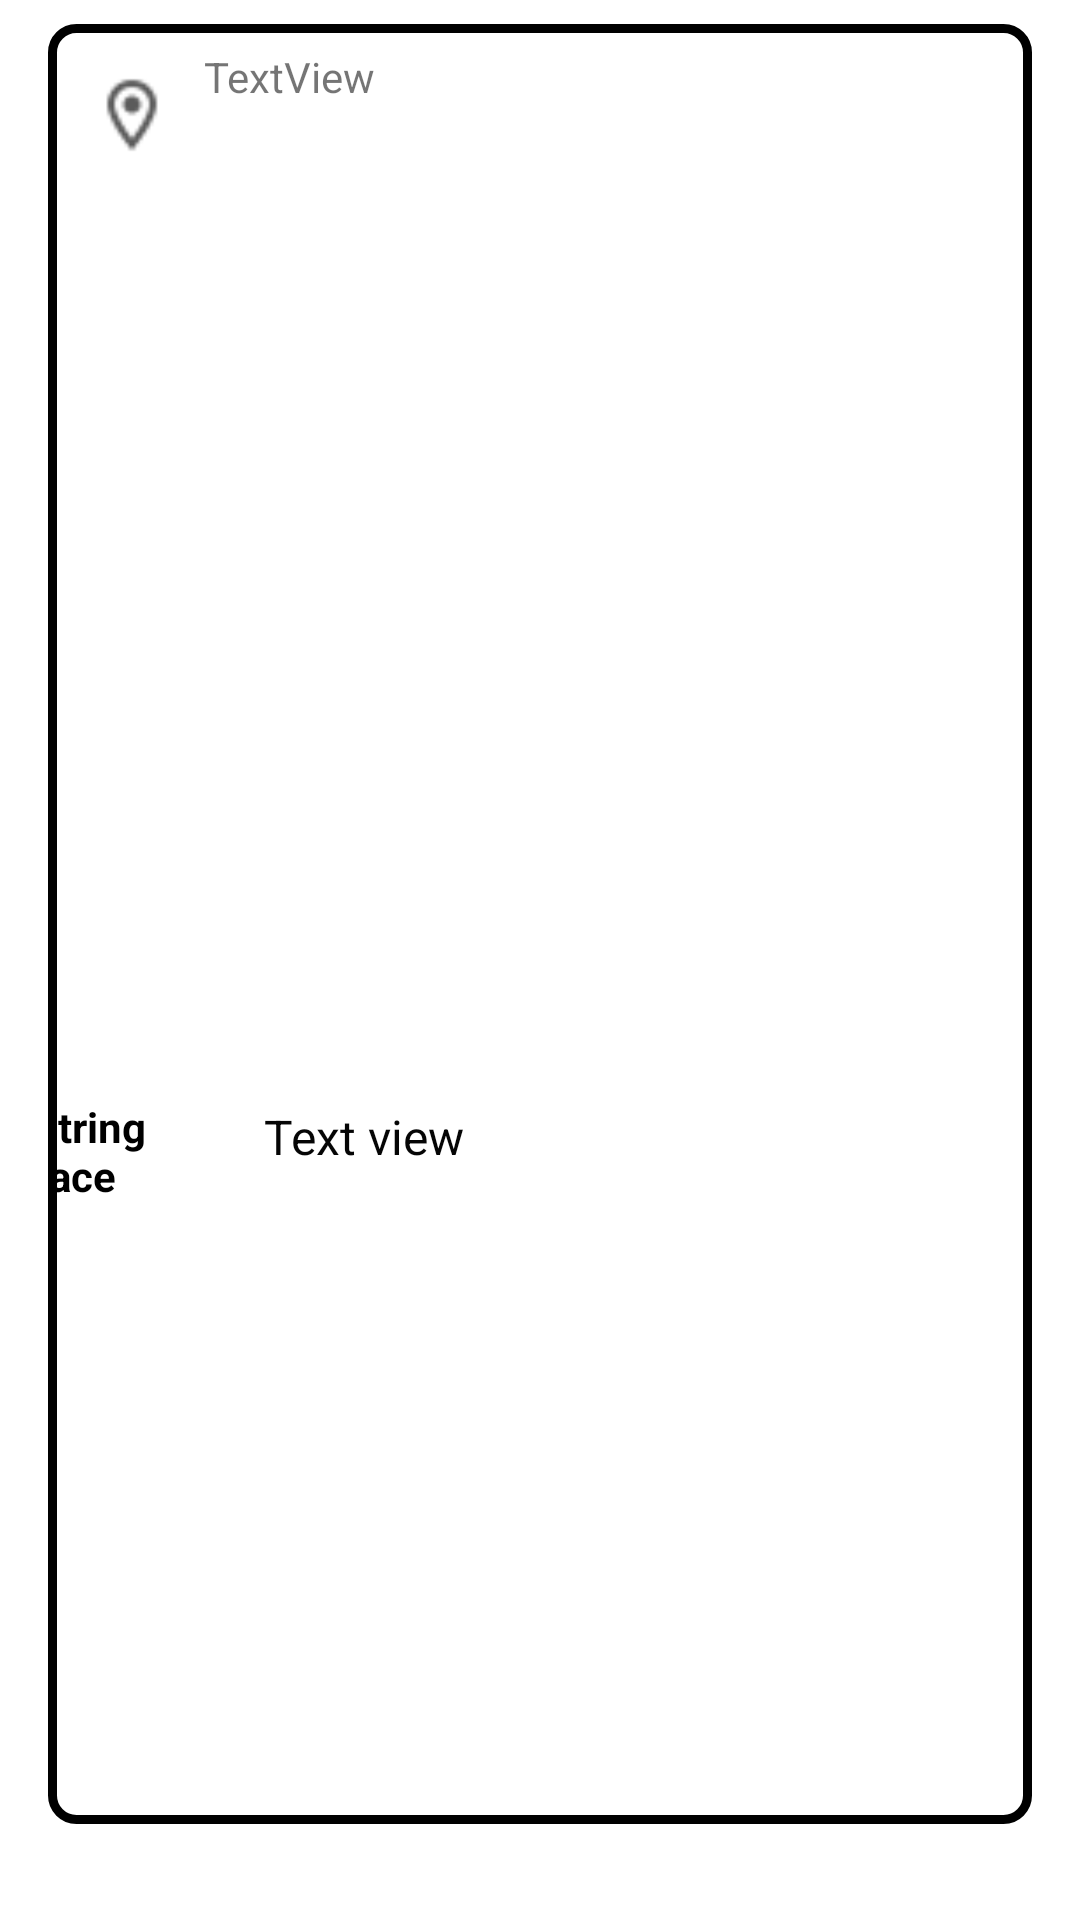

Point at icon controls on the screen. Image size 1080×1920, points as (x,y).
location: (132,115)
